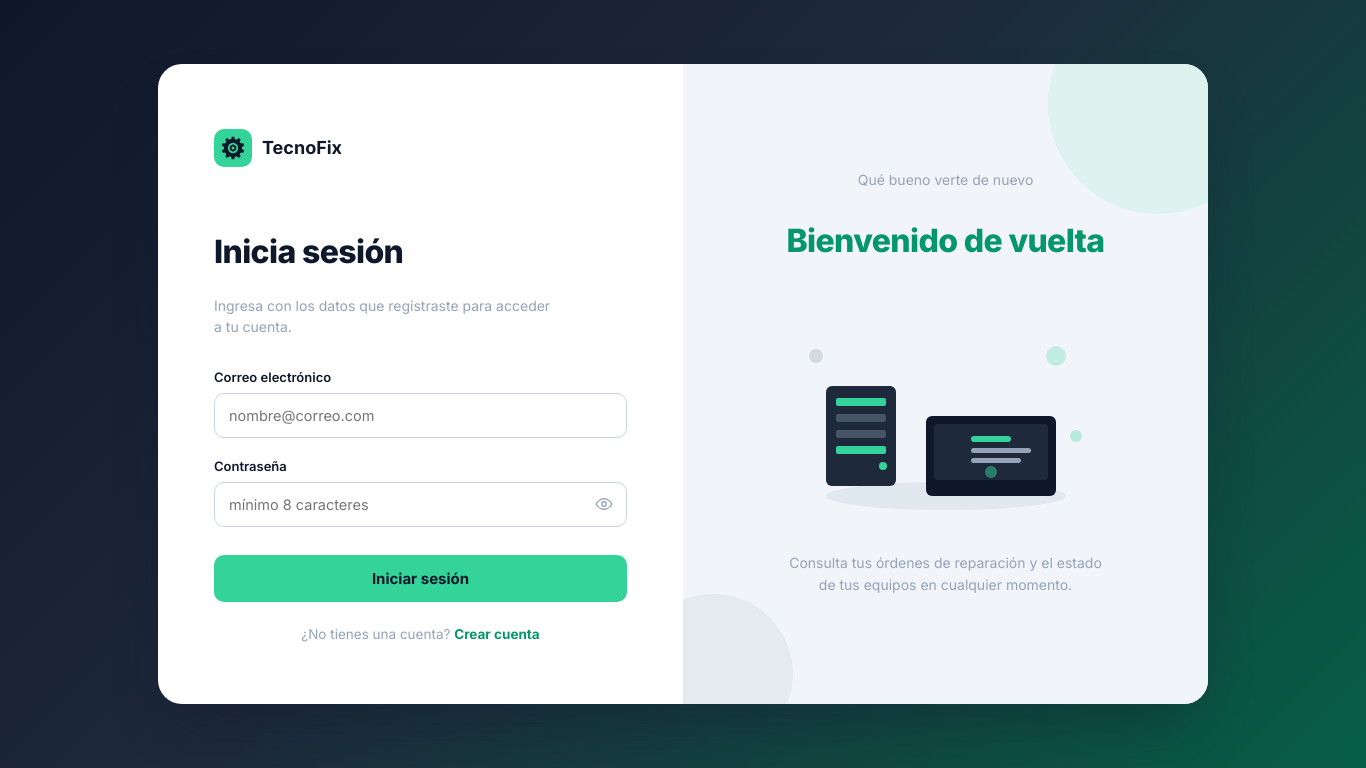
Test: ORD-002 en el frontend › mantiene el estado Recibida si el backend rechaza la apertura
In the field labelled "Correo electrónico": [420, 416] box [214,393,627,438], type "tecnico@tecnofix.cl"
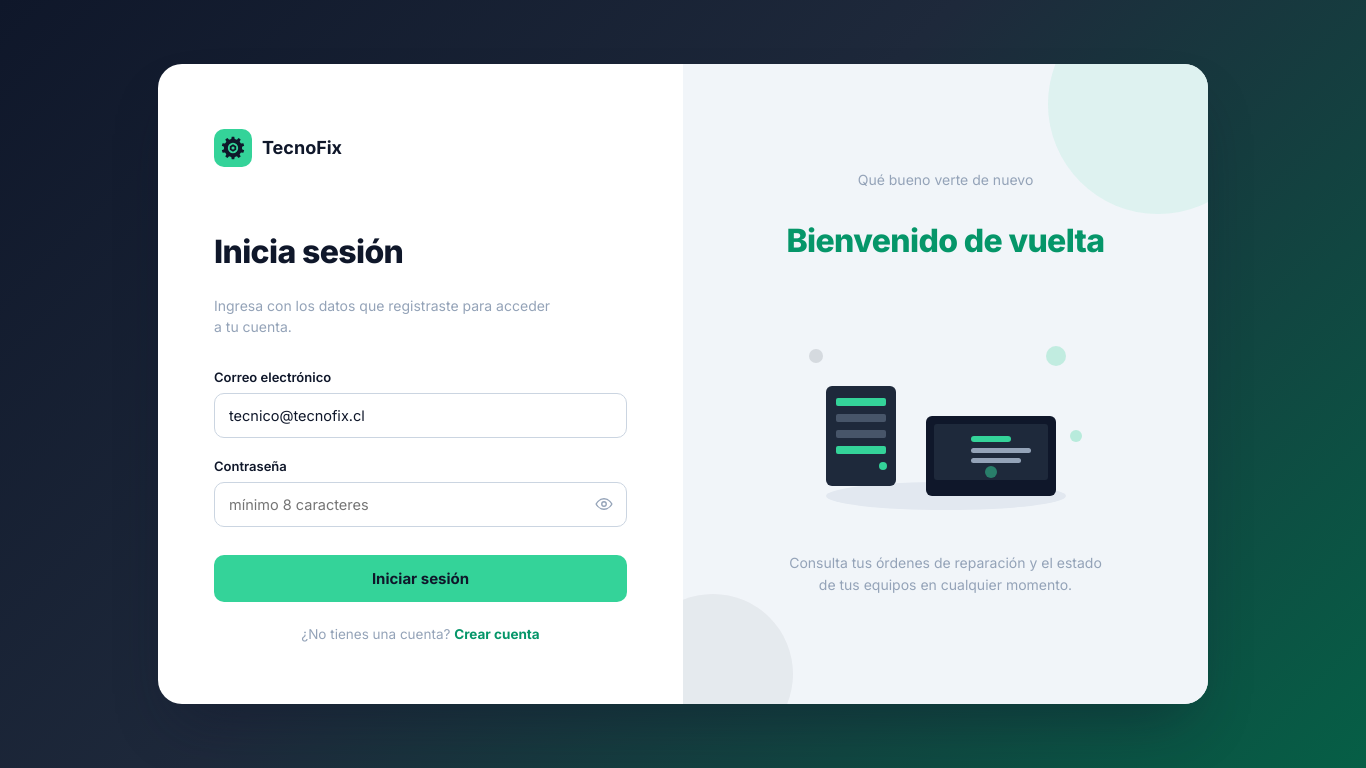
In the password field labelled "Contraseña": [420, 504] box [214,482,627,527], type "Clave1234"
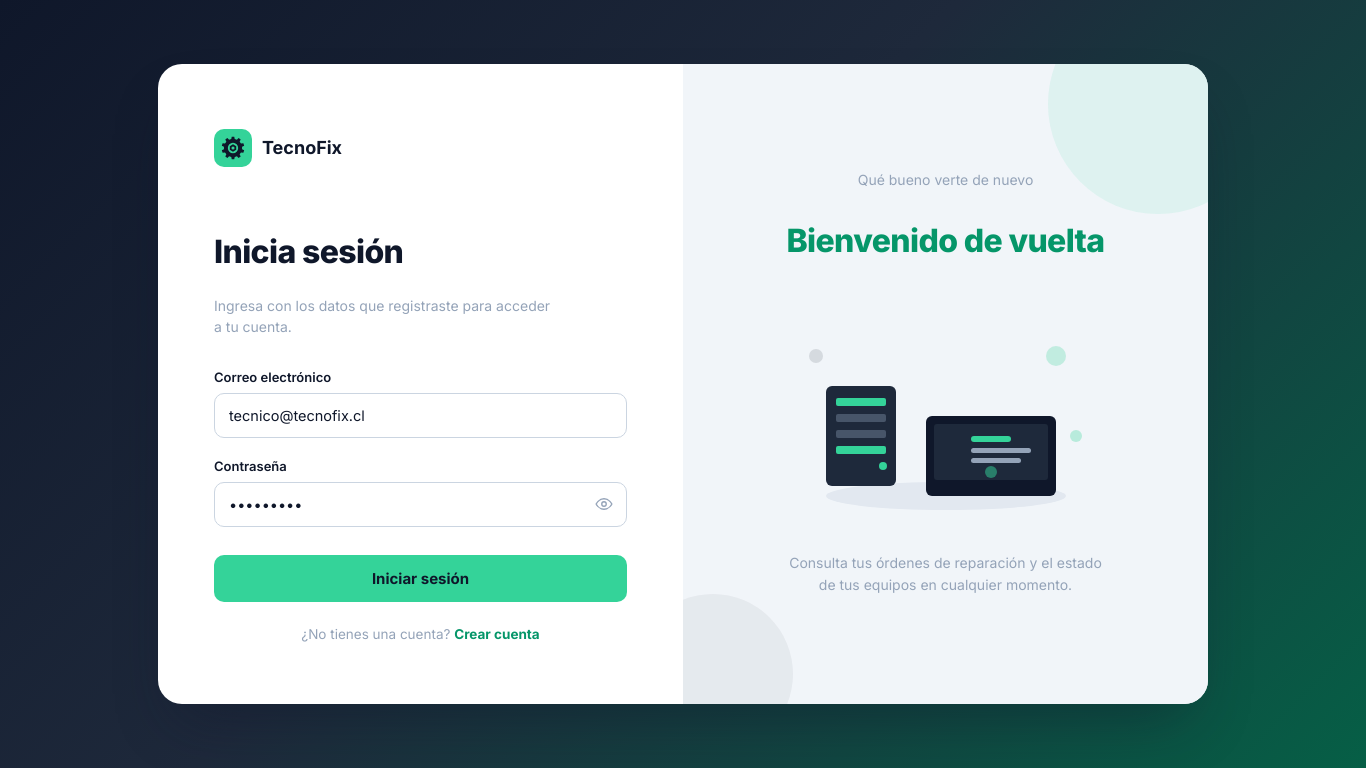
Submit the form, box [214,369,627,602]
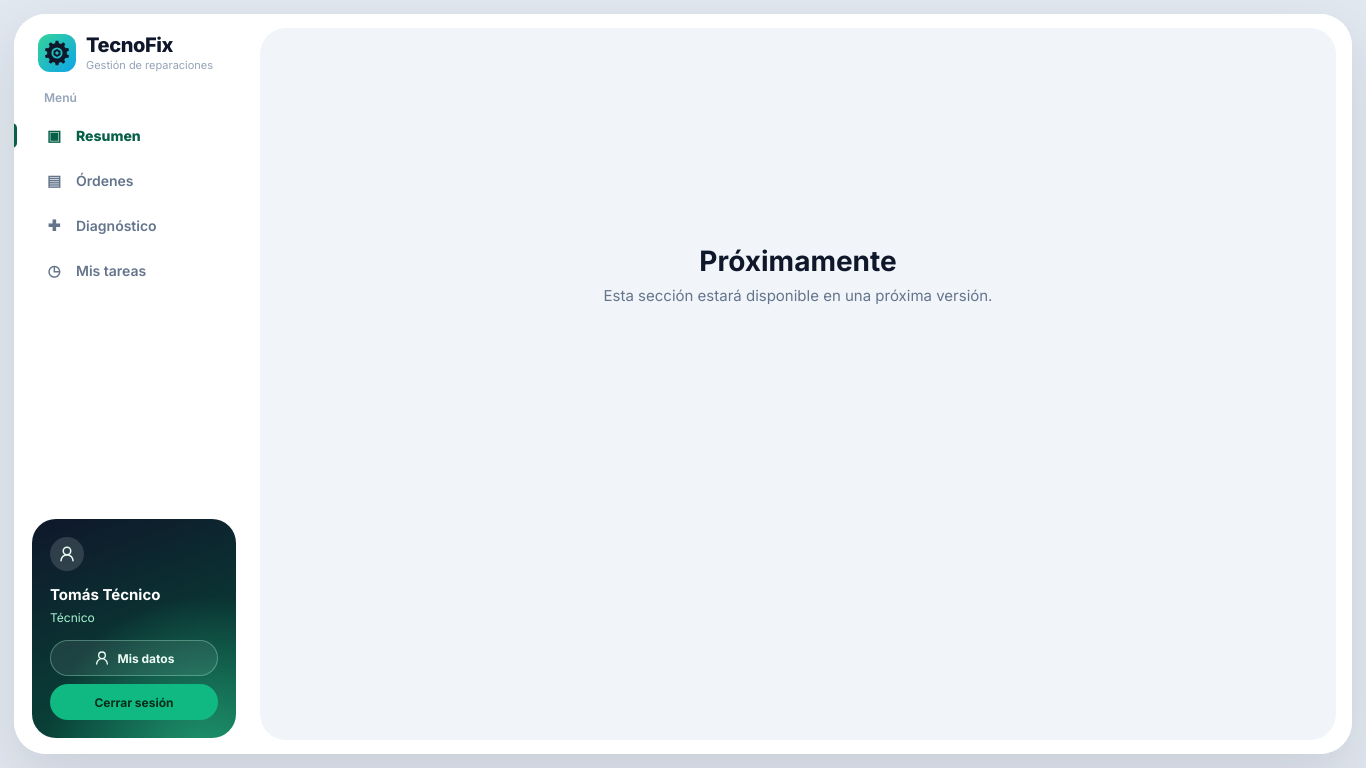
Click the button "✚ Diagnóstico": [134, 226] box [32,205,236,246]
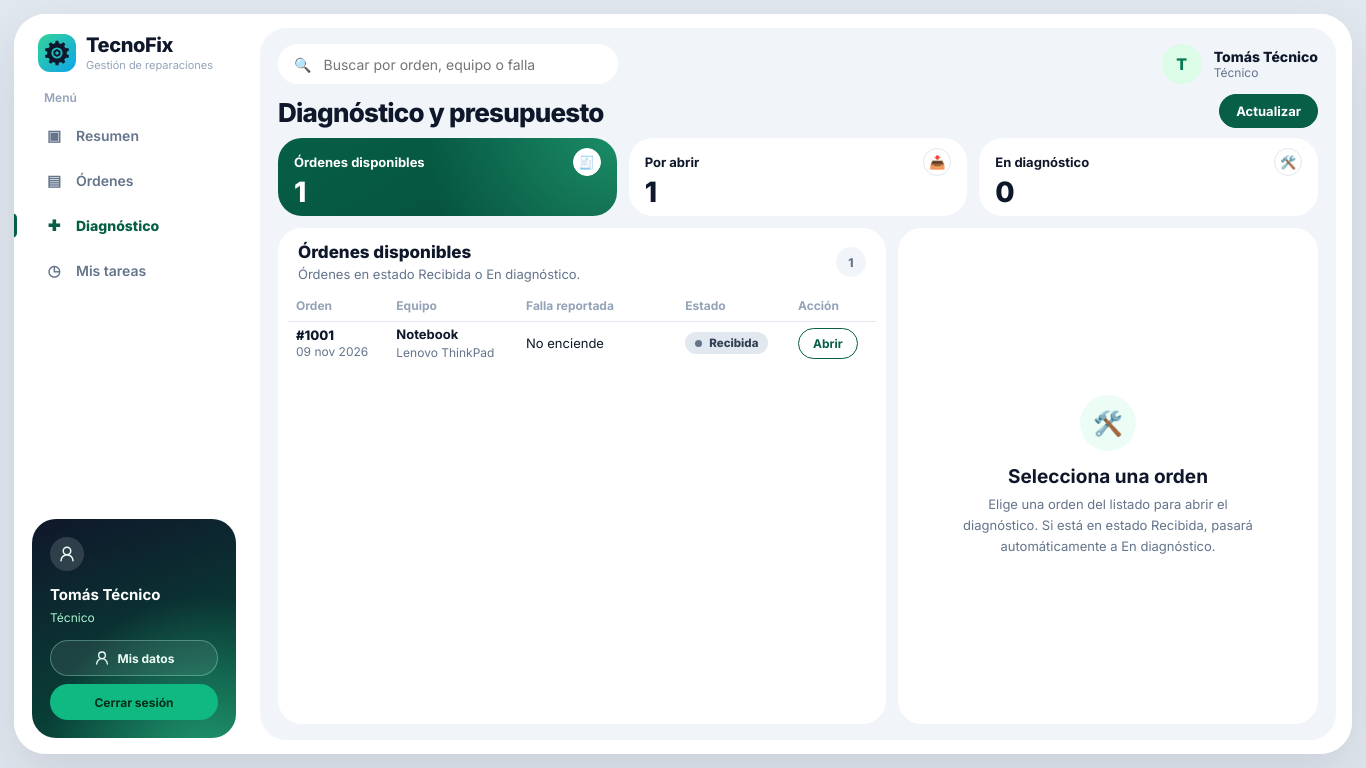
Click the button "Abrir": [828, 343] box [798,328,858,359]
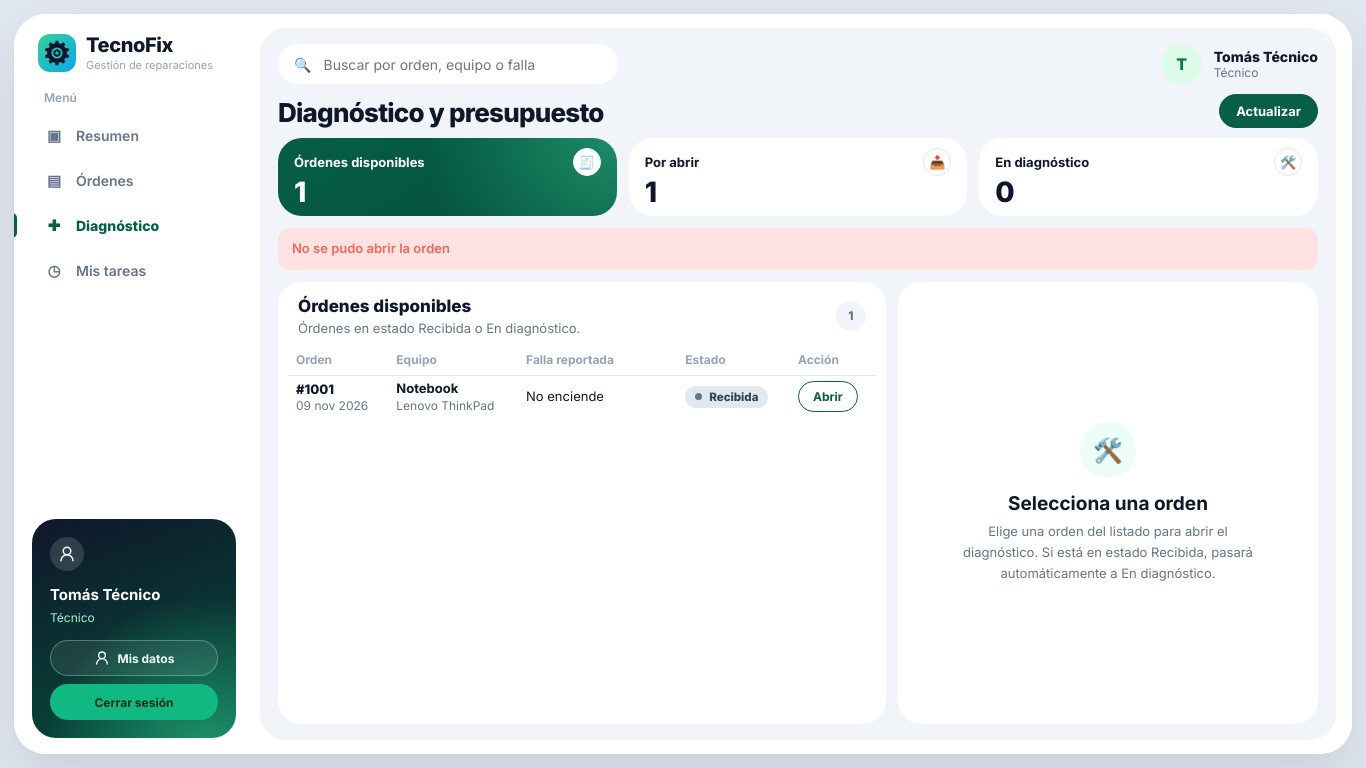
Now the text "Recibida" is shown, box [685,386,768,408]
Now the message reads "No se pudo abrir la orden", box [292,240,450,256]
